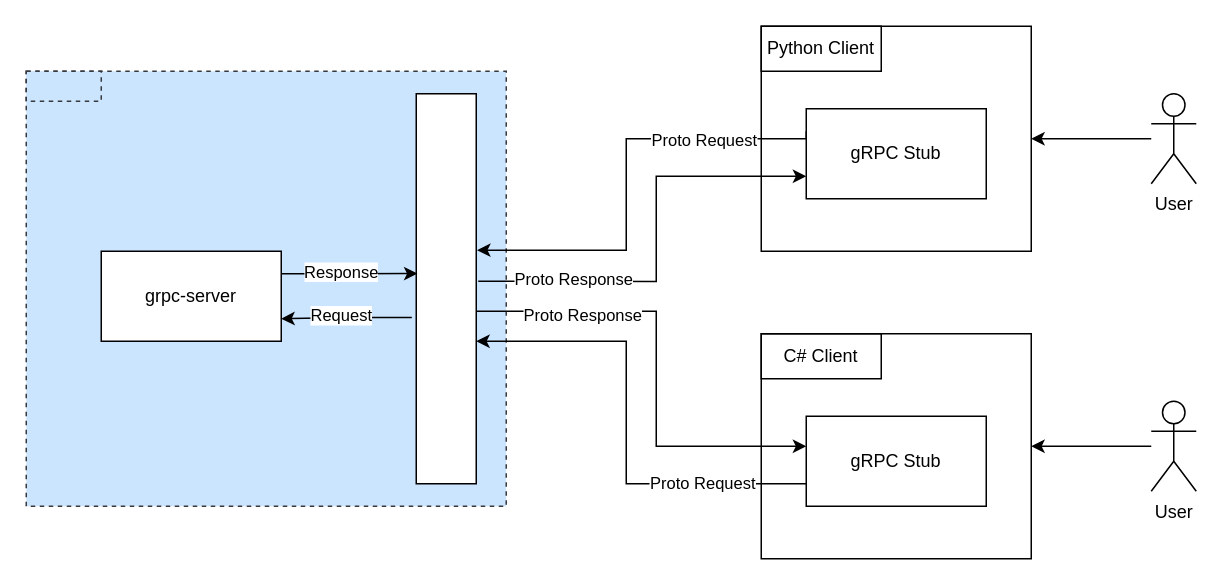
Image size: 1223x585. Some labels were removed from this diagram. Each missing label, with the box of its shape:
GLB: (415, 92, 476, 484)
GPC: (25, 70, 101, 101)
